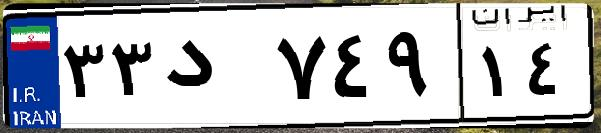1: (475, 38, 525, 113)
3: (57, 26, 110, 100), (110, 28, 158, 98)
4: (330, 28, 385, 110), (525, 38, 570, 115)
7: (270, 28, 330, 110)
9: (385, 28, 445, 110)
د: (158, 20, 270, 120)
